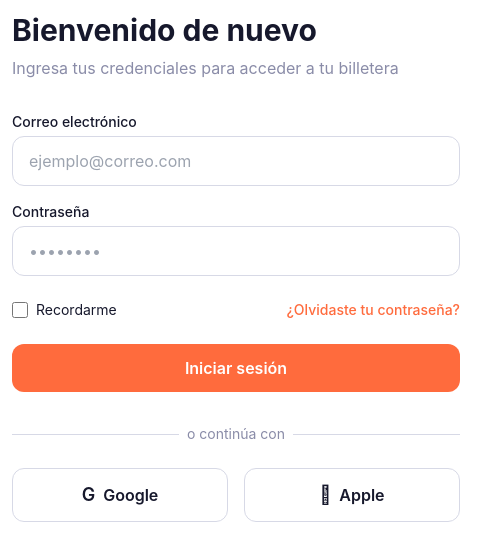
it: LoginForm UI › should show real-time validation error for short password
The width and height of the screenshot is (477, 559).
Type "short" into the password field labelled "Contraseña" at (236, 251), box [12, 226, 460, 276]
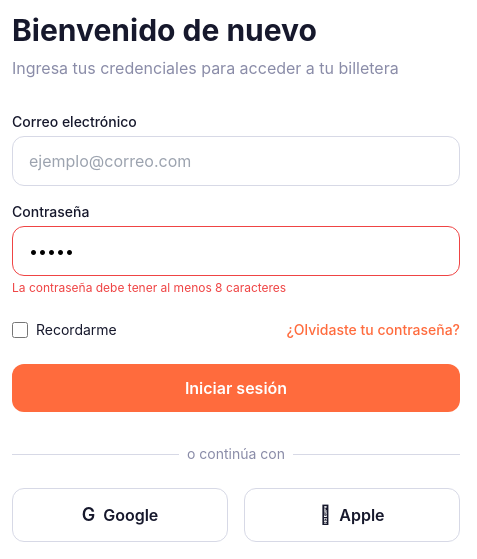
Expected: the text "La contraseña debe tener al menos 8 caracteres" is shown, [12, 280, 286, 295]
